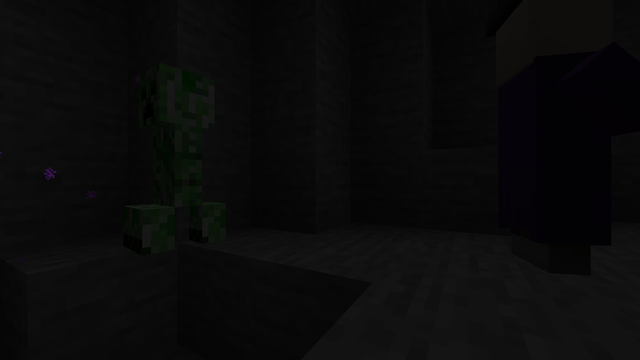creepers: (127, 50, 222, 254)
sorcieres: (493, 1, 625, 285)
